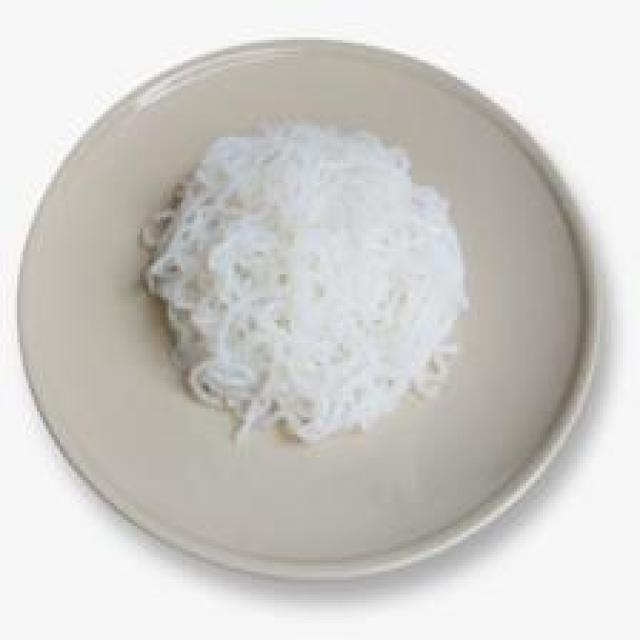Wet Waste: (143, 118, 474, 452)
